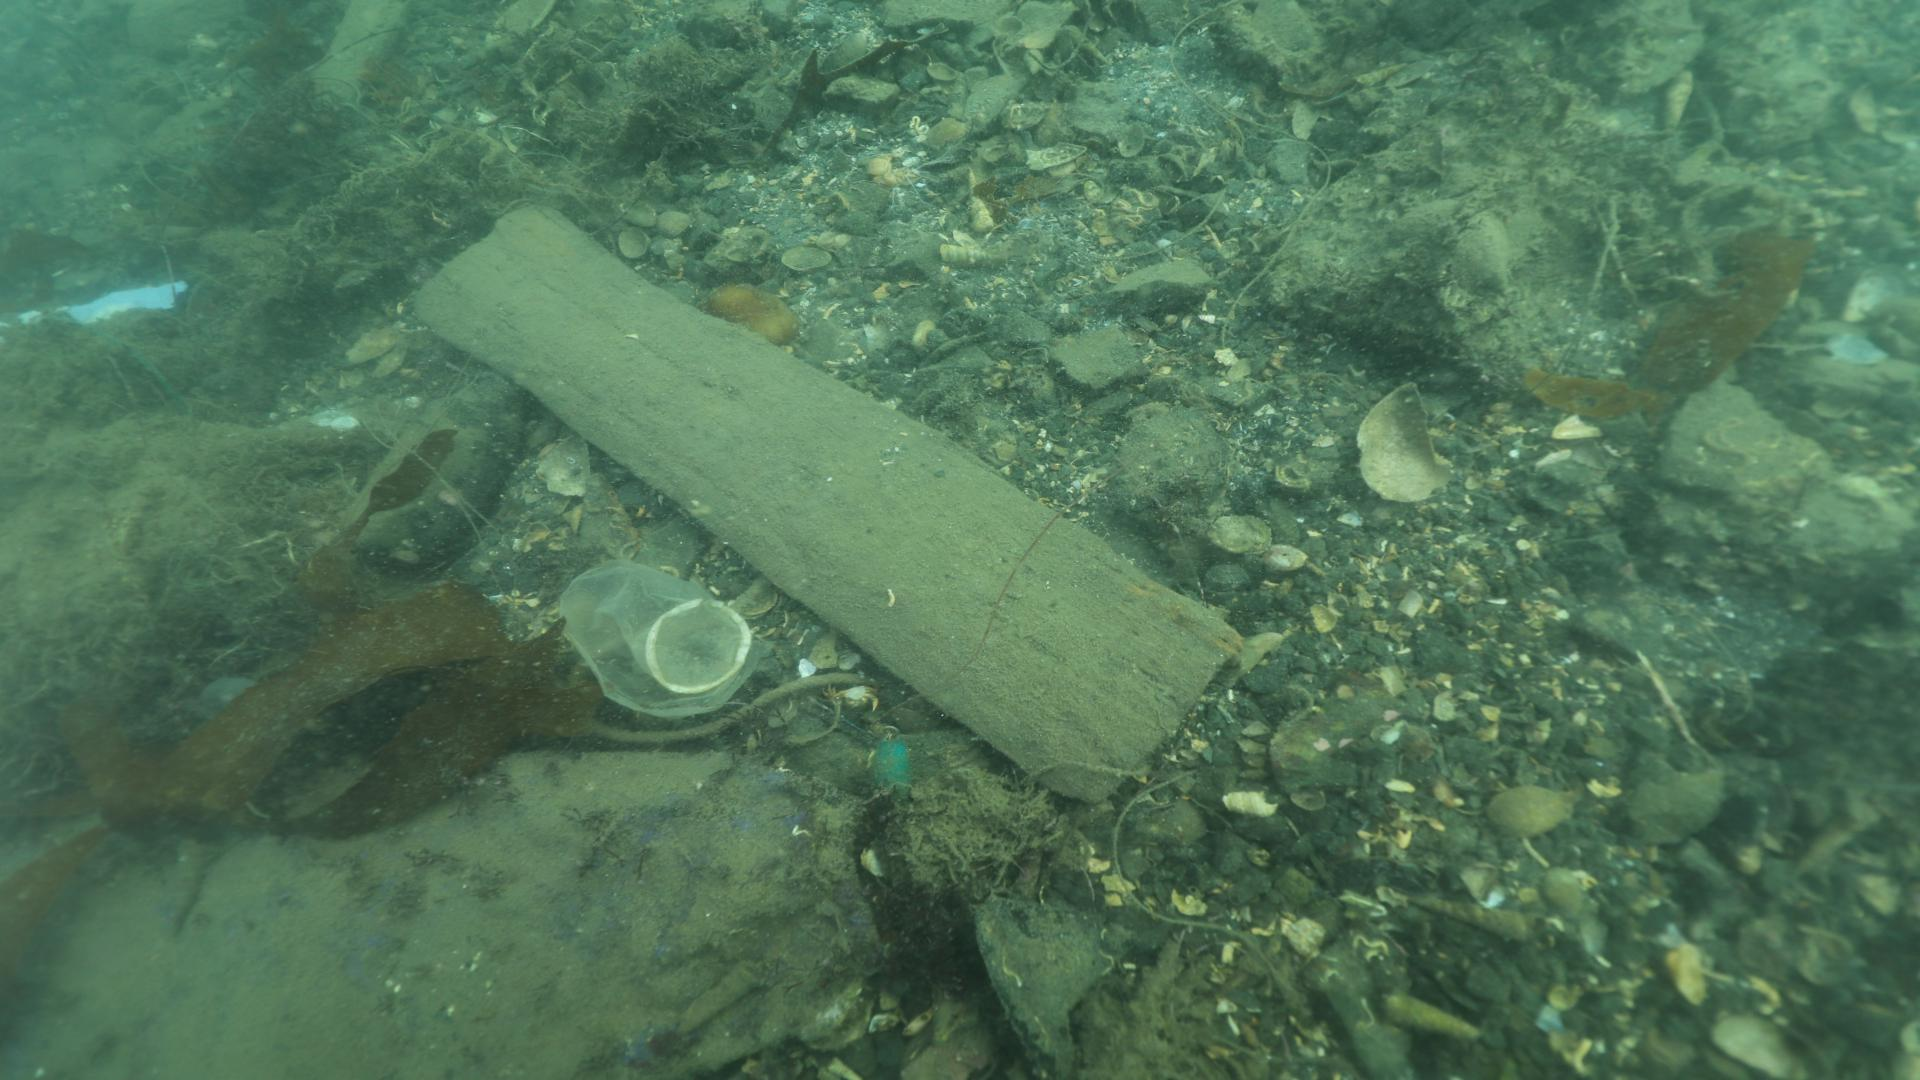wood: (404, 200, 1249, 804)
